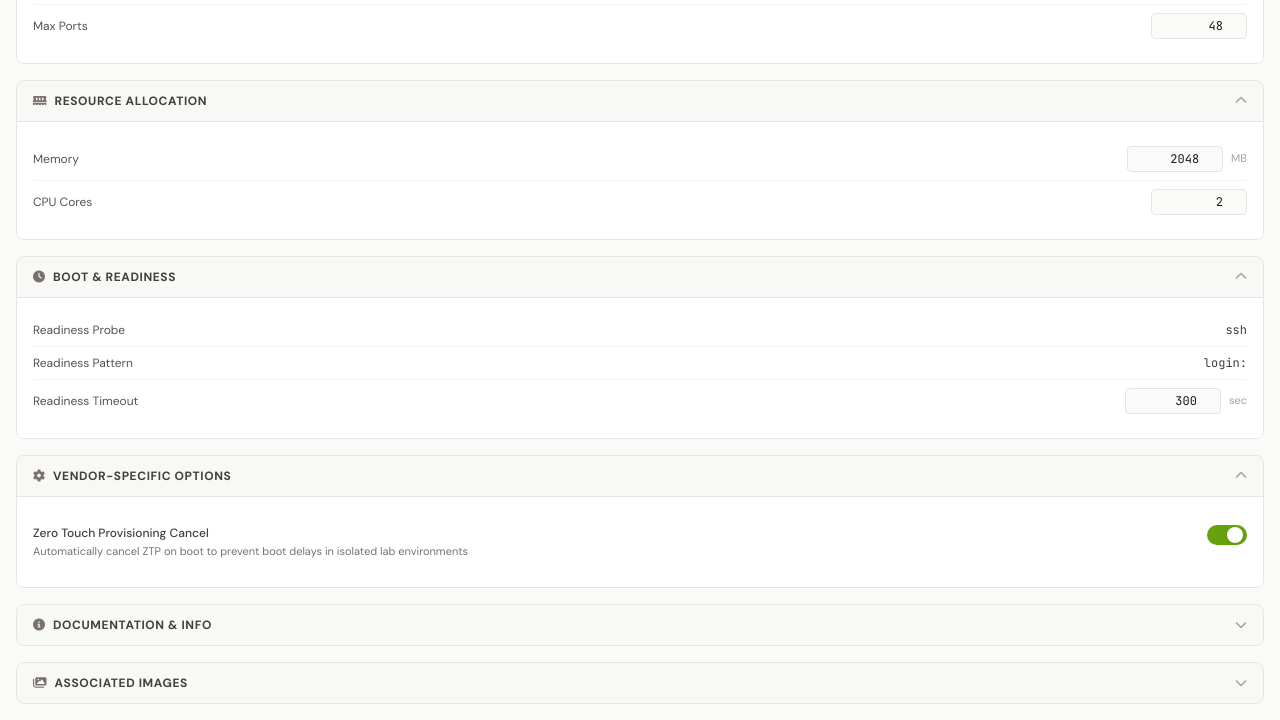
Test: DeviceConfigPanel › Documentation & Info section › shows Runtime Kind with explanatory tooltip
(page scrolled)
Expected: the text "Documentation & Info" is shown, [53,617,212,633]
// Expand the collapsed section
Click the button "Documentation & Info" at [132, 625], box [17,605,1263,645]
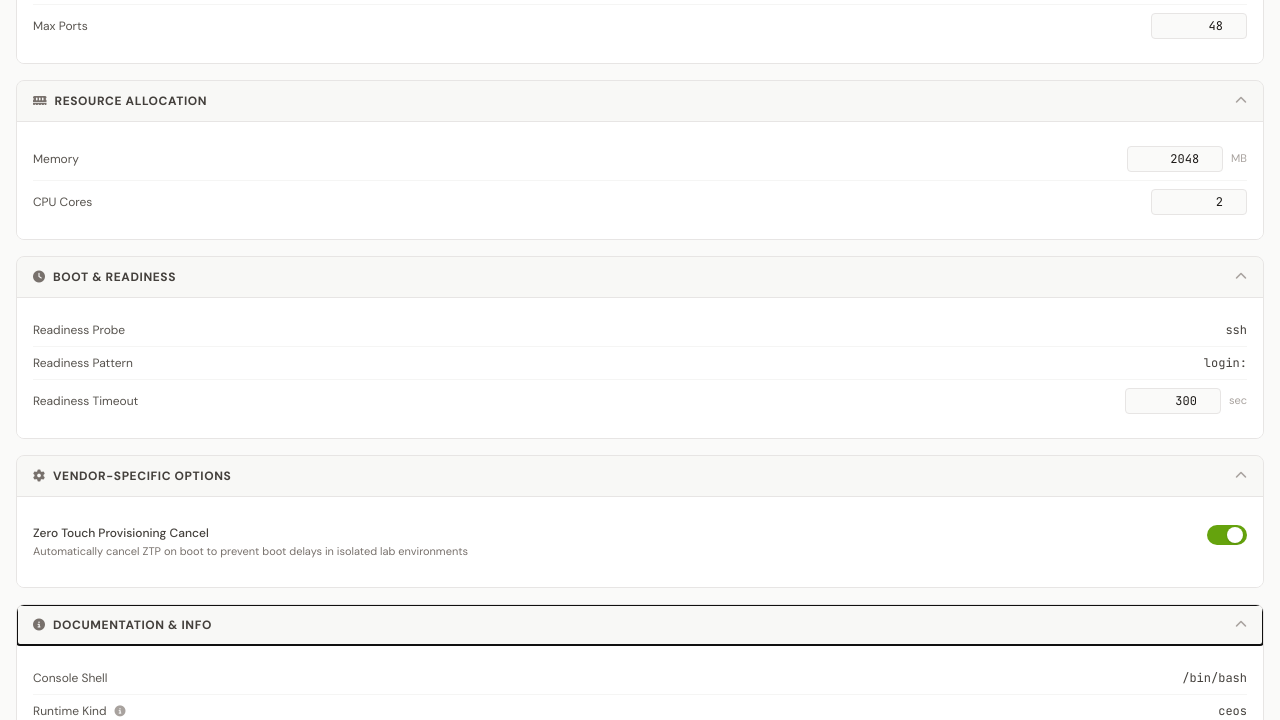
Expected: the text "Runtime Kind" is shown, [33,703,106,719]
Expected: the element titled "Provider/runtime identifier used for startup behavior. This is not the device ID or alias." is shown, [114,703,126,719]
